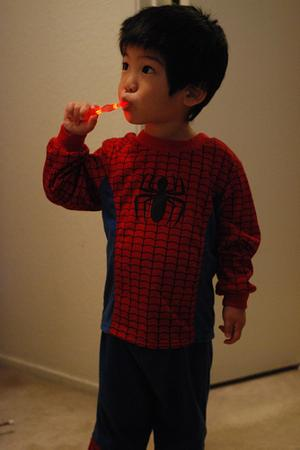person: (42, 5, 262, 449)
